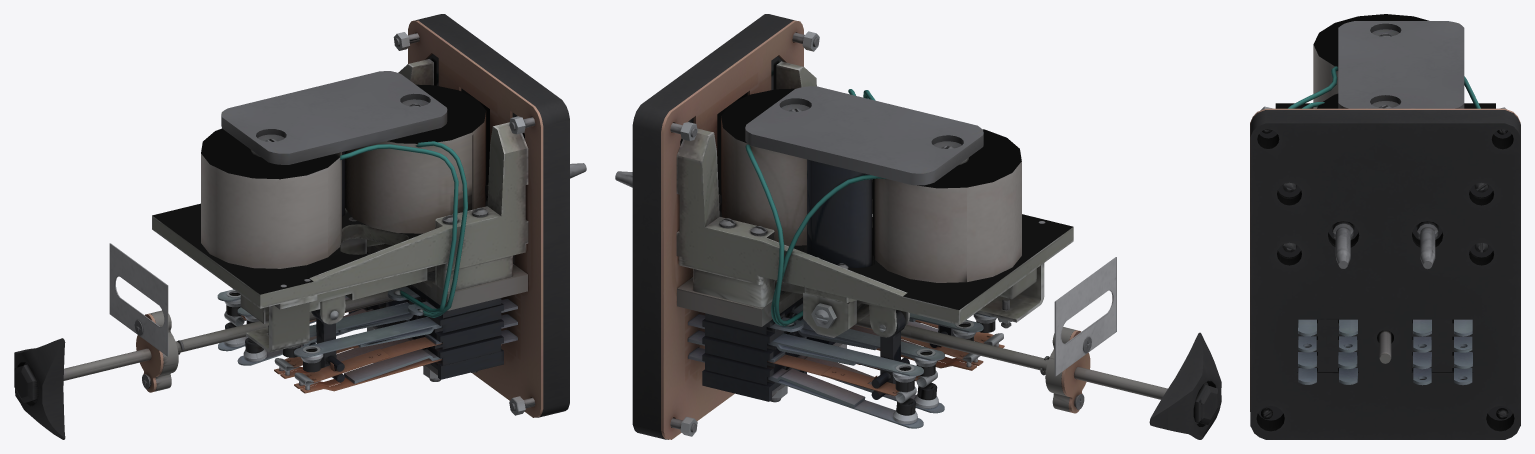
The model's file is kmsh.fbx.
3 views of the same model, side by side, from view 1: azimuth 30°, elevation 25°; view 2: azimuth 150°, elevation 25°; view 3: azimuth 270°, elevation 25° (orthographic). The views are drawn at different scales.
Parts seen in each view (by area): view 1: kmsh; view 2: kmsh; view 3: kmsh.
Part boxes in pixels (x1,y1,x2,y2): kmsh: (14, 14, 586, 439); kmsh: (615, 14, 1221, 439); kmsh: (1250, 14, 1520, 439).
Bounding box in the file's own units: 0.1636 × 0.0898 × 0.0696.
